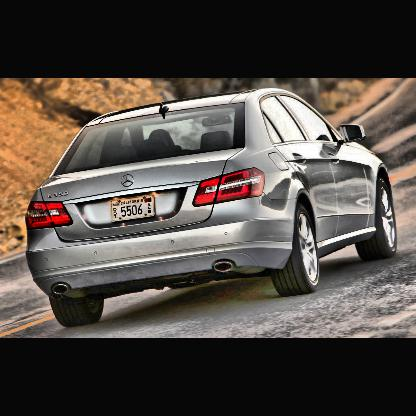Mercedes-Benz E-Class Sedan 2012: (28, 88, 400, 329)
